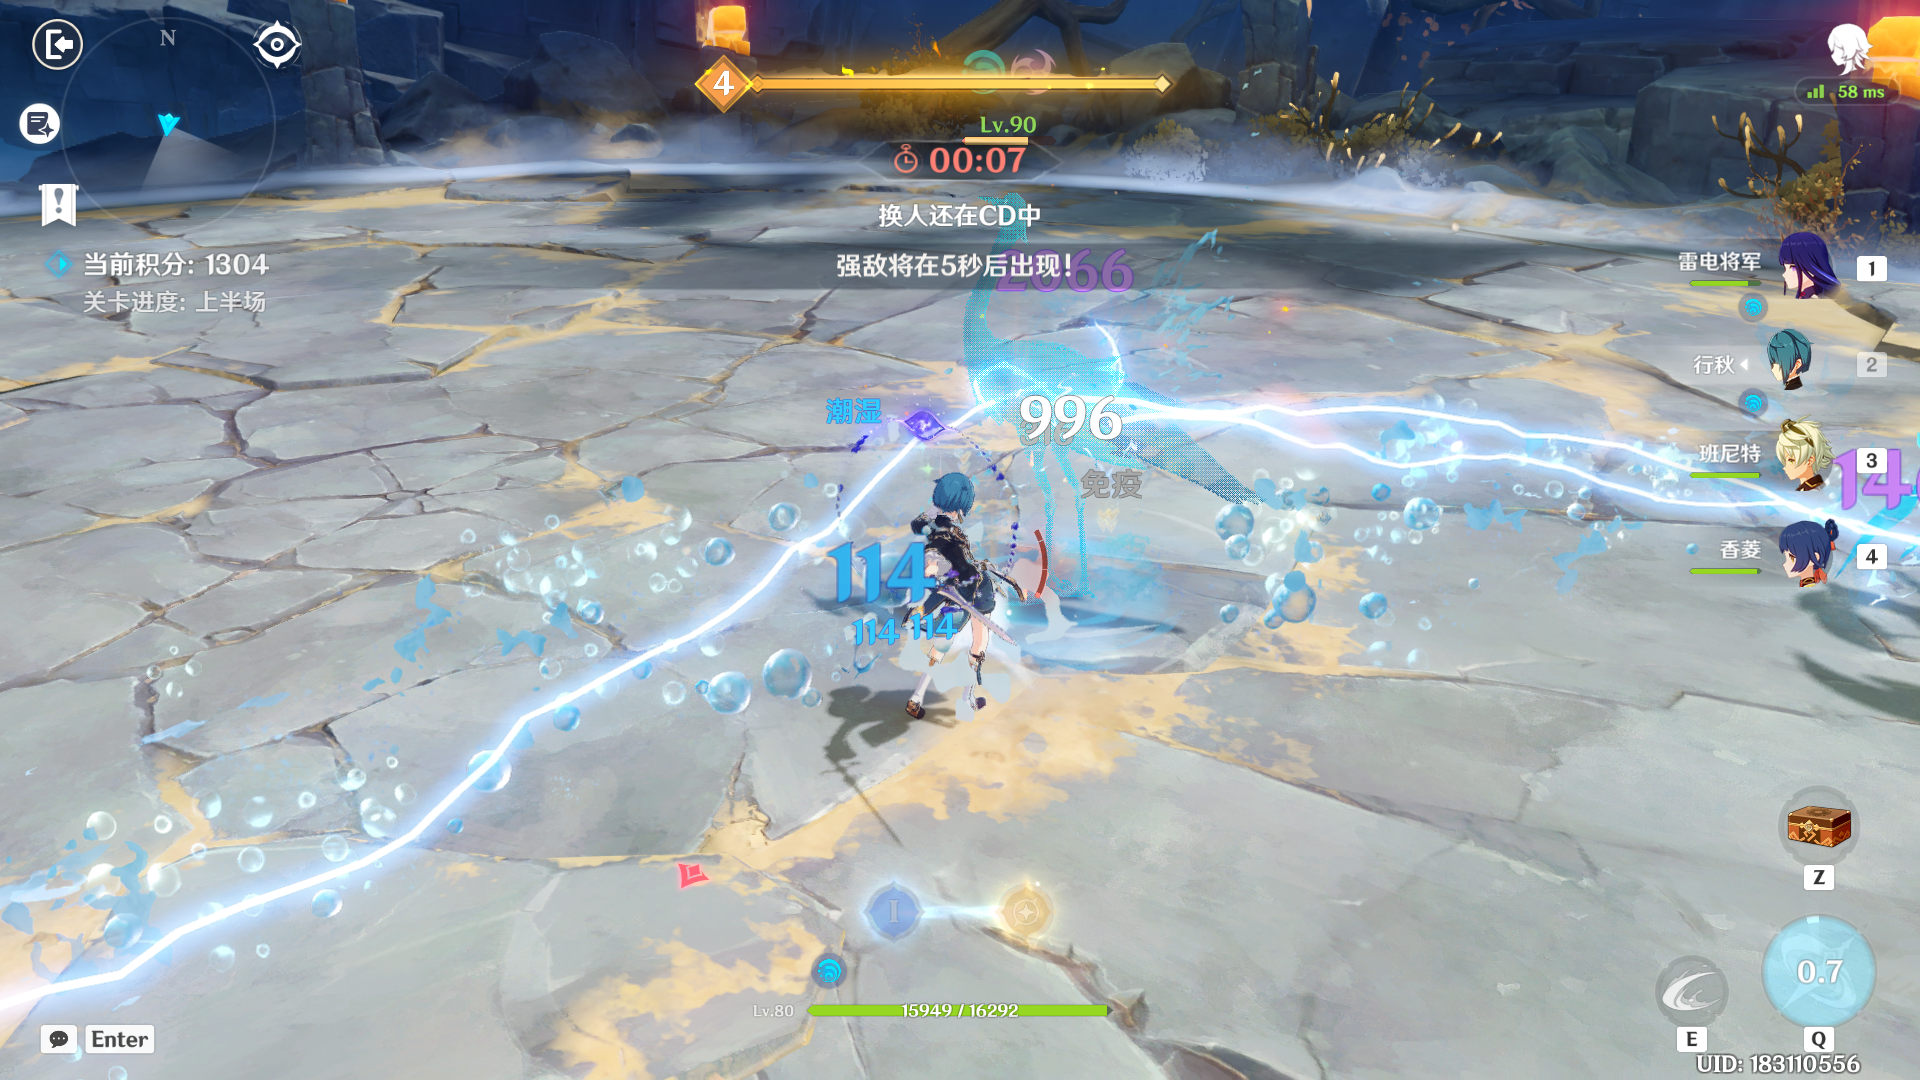character: (855, 463, 1068, 745)
